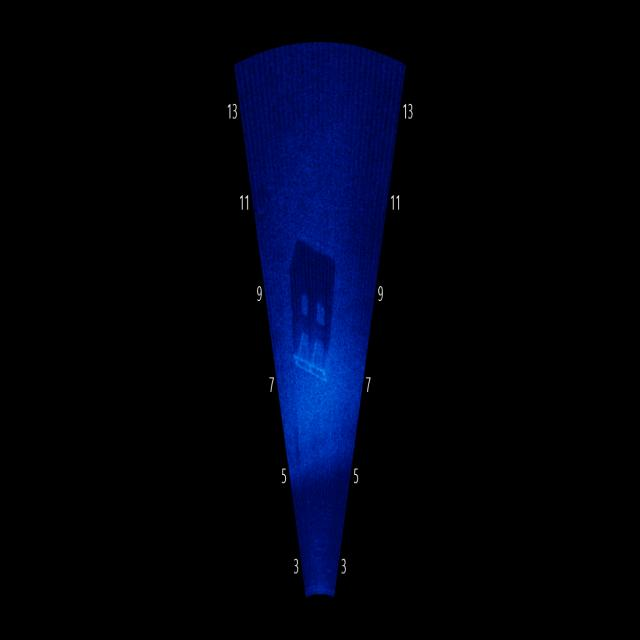square: (284, 222, 337, 388)
